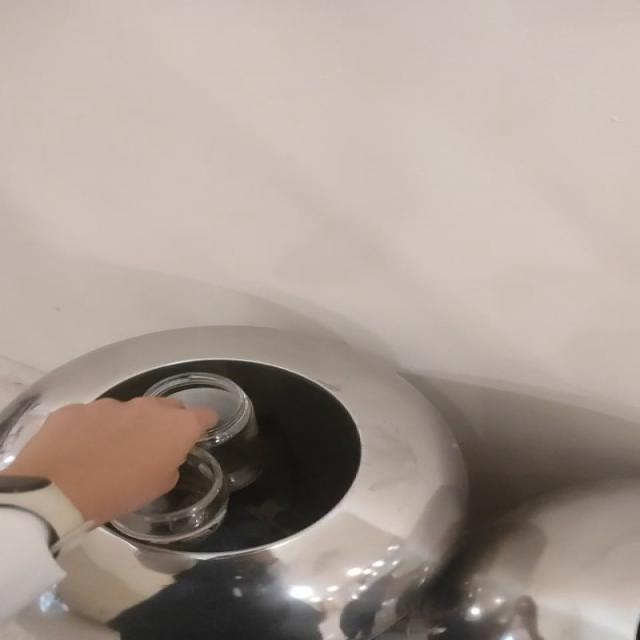glass: (111, 372, 263, 545)
